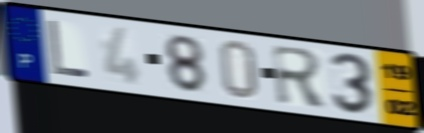0: (216, 39, 261, 102)
3: (328, 52, 376, 117)
4: (101, 25, 144, 88)
8: (160, 34, 209, 94)
L: (45, 18, 92, 80)
R: (269, 43, 331, 110)
